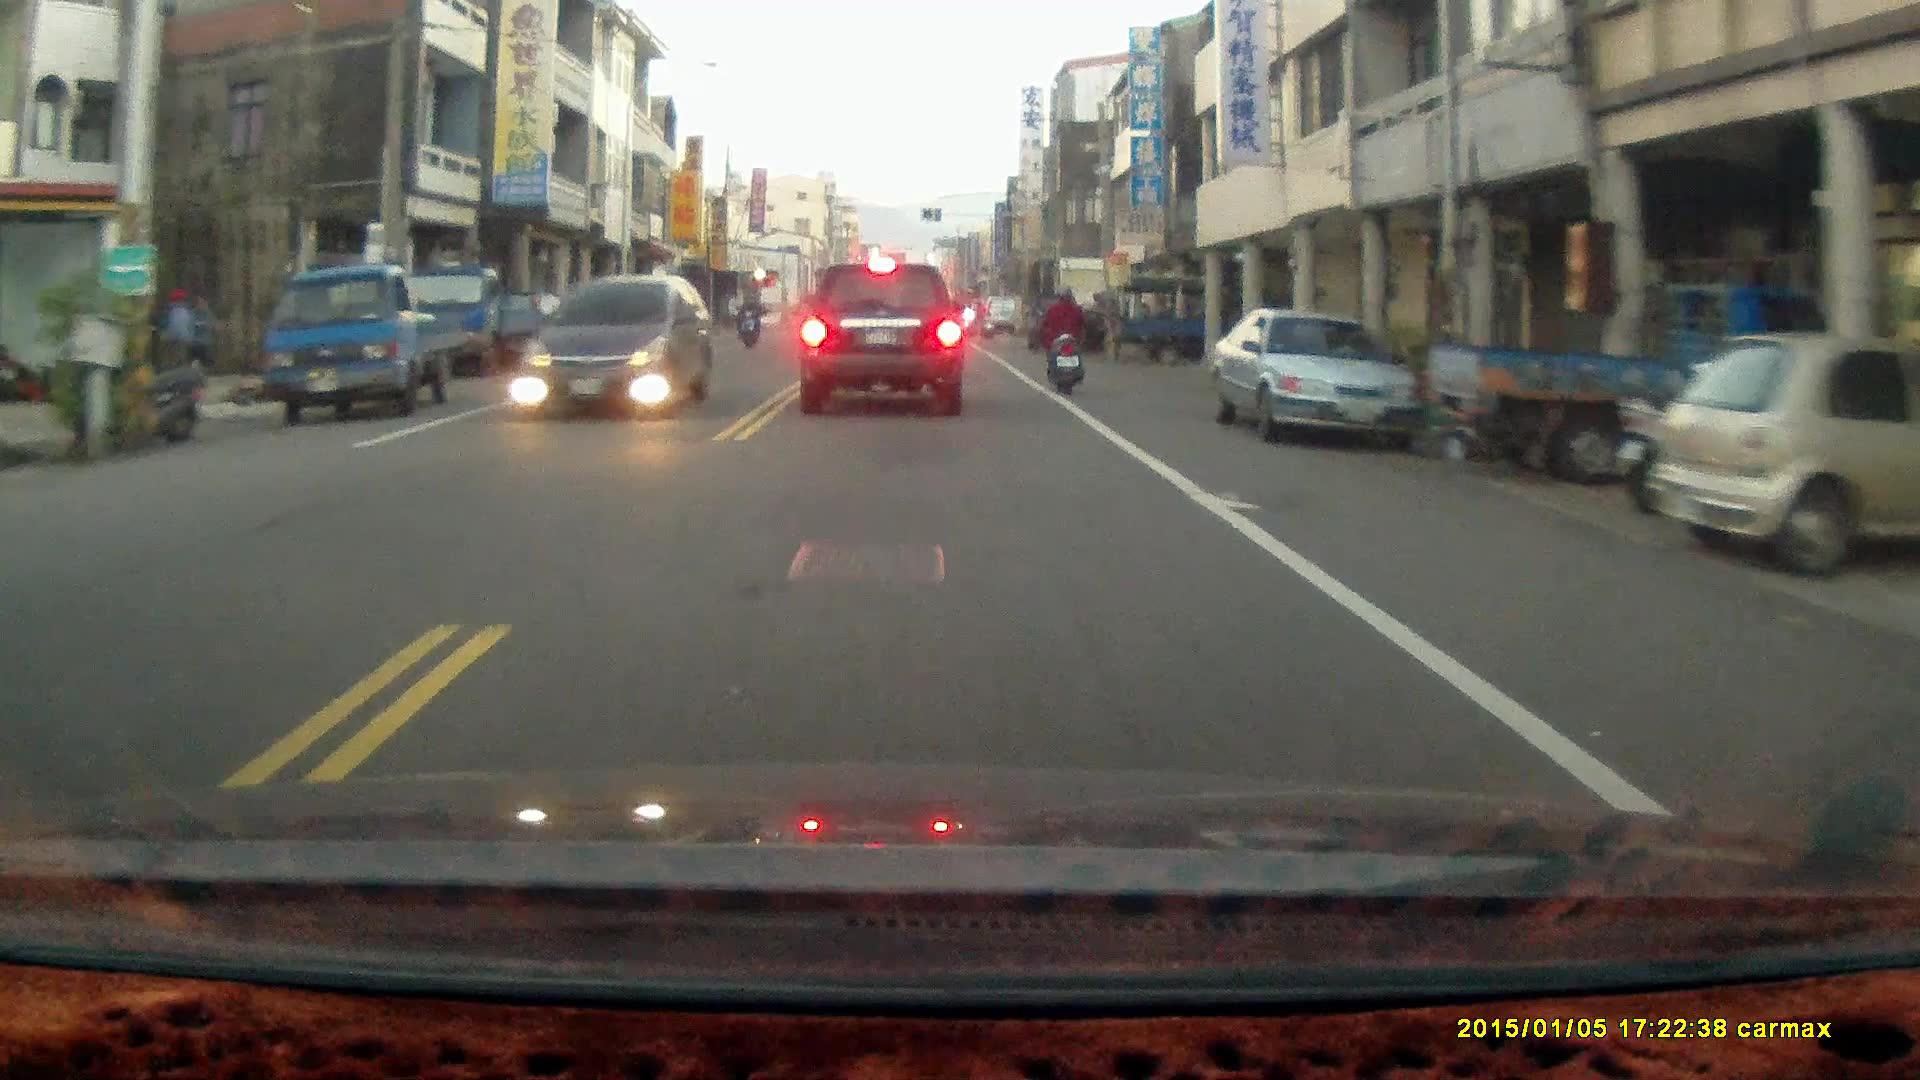pedestrian: (161, 285, 191, 392), (188, 290, 218, 389)
rider: (1039, 282, 1085, 394), (734, 294, 762, 348), (963, 297, 996, 339)
vehicle: (1417, 275, 1821, 486), (1645, 327, 1920, 582), (264, 263, 474, 428), (1211, 311, 1422, 447), (794, 258, 967, 422), (523, 276, 713, 422), (399, 256, 555, 374), (1117, 274, 1284, 364)
